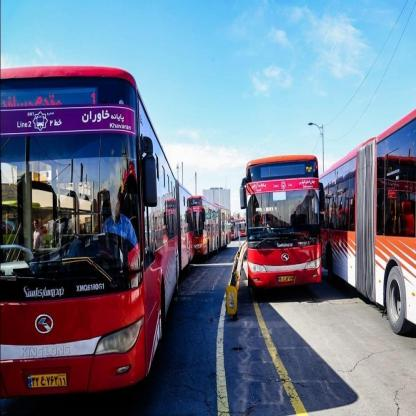Bus: (0, 67, 197, 399), (324, 94, 416, 336), (242, 158, 327, 292), (181, 190, 234, 253)
